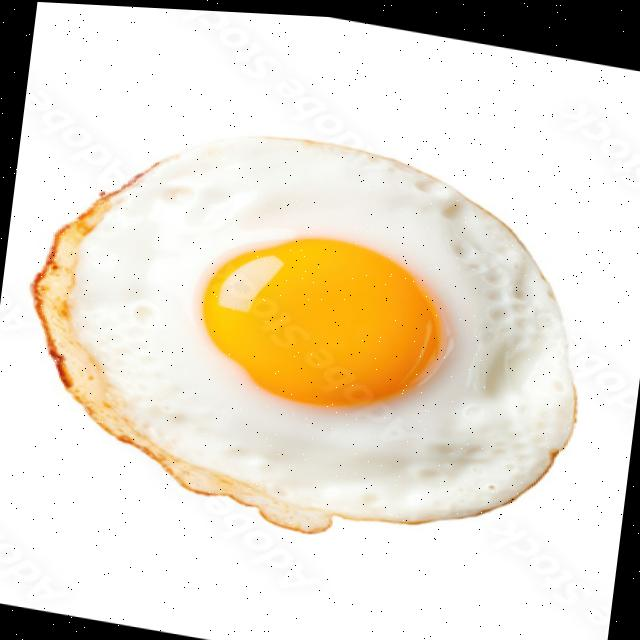Egg: (32, 133, 574, 525)
